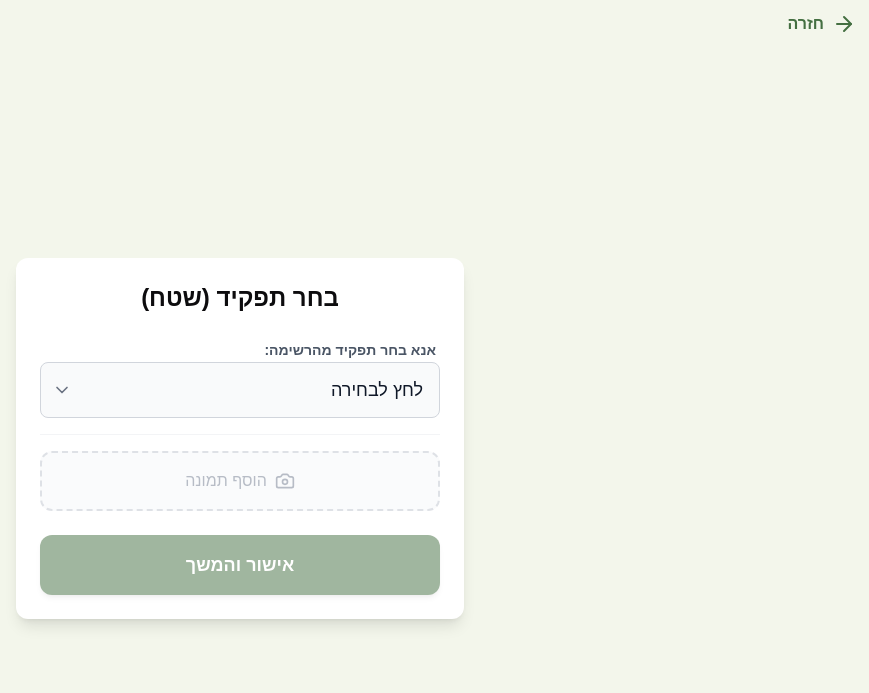
Test: OutsideRolesPage (OutStoreDuty) › Shows custom input when "Other" is selected
This screenshot has width=869, height=693.
Select "Other"
Select "אחר" in the dropdown at (240, 390), box [40, 362, 440, 418]
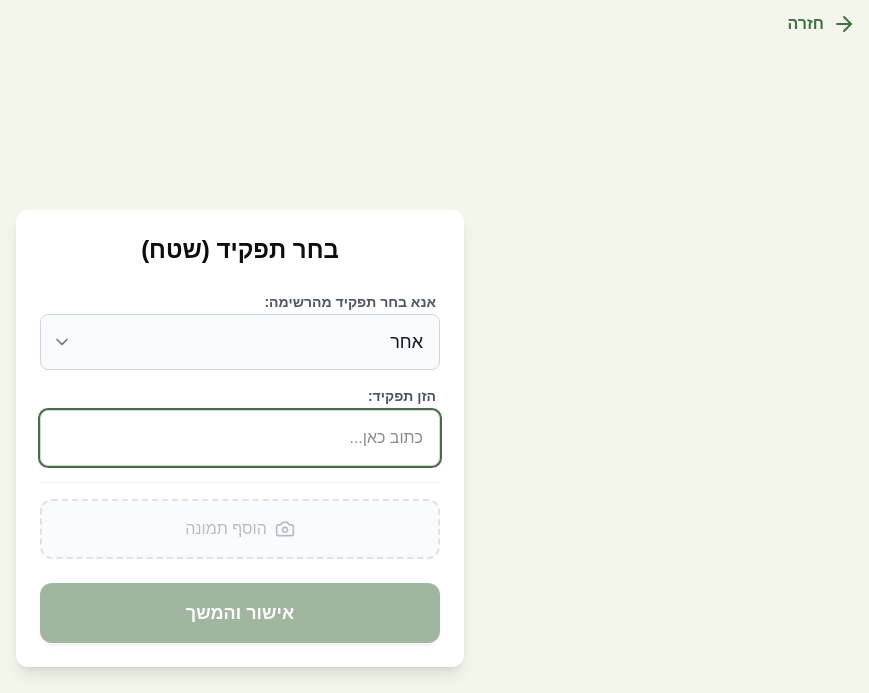
Expected: the button "אישור והמשך" is disabled, [40, 582, 440, 642]
Expected: the field with placeholder "כתוב כאן..." is shown
Type in custom role
Type "My Custom Job" into the field with placeholder "כתוב כאן..." at (240, 438), box [40, 410, 440, 466]
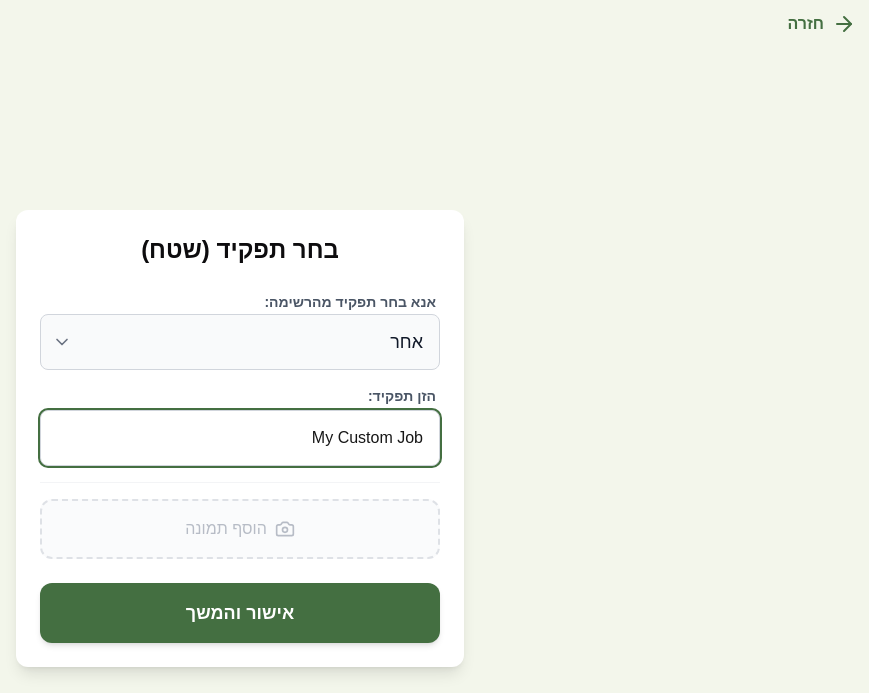
Expected: the button "אישור והמשך" is enabled, [40, 582, 440, 642]
